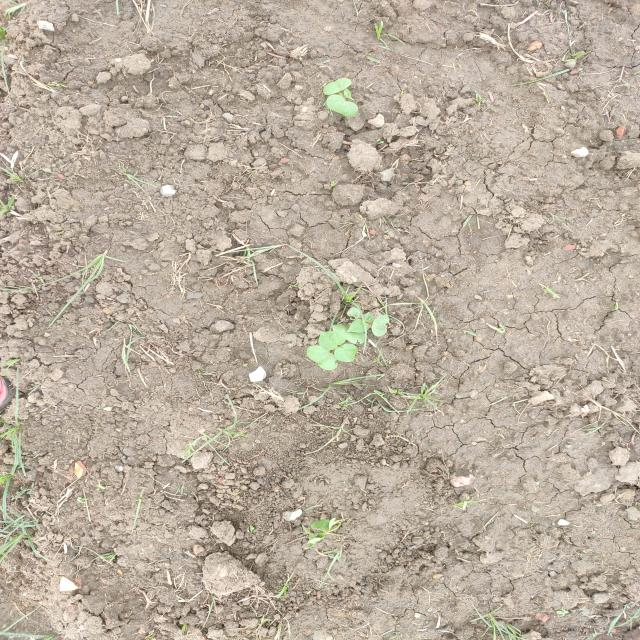seedling_s4: (306, 345, 338, 370), (326, 94, 358, 117), (332, 324, 365, 344), (318, 331, 346, 350), (323, 78, 352, 95), (334, 344, 357, 362), (372, 315, 390, 337), (311, 518, 336, 532), (347, 319, 369, 333), (347, 308, 360, 319), (344, 88, 354, 100), (363, 312, 374, 322)
